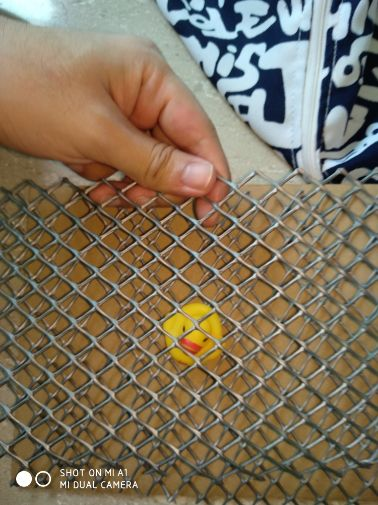unknownObject: (164, 302, 223, 361)
